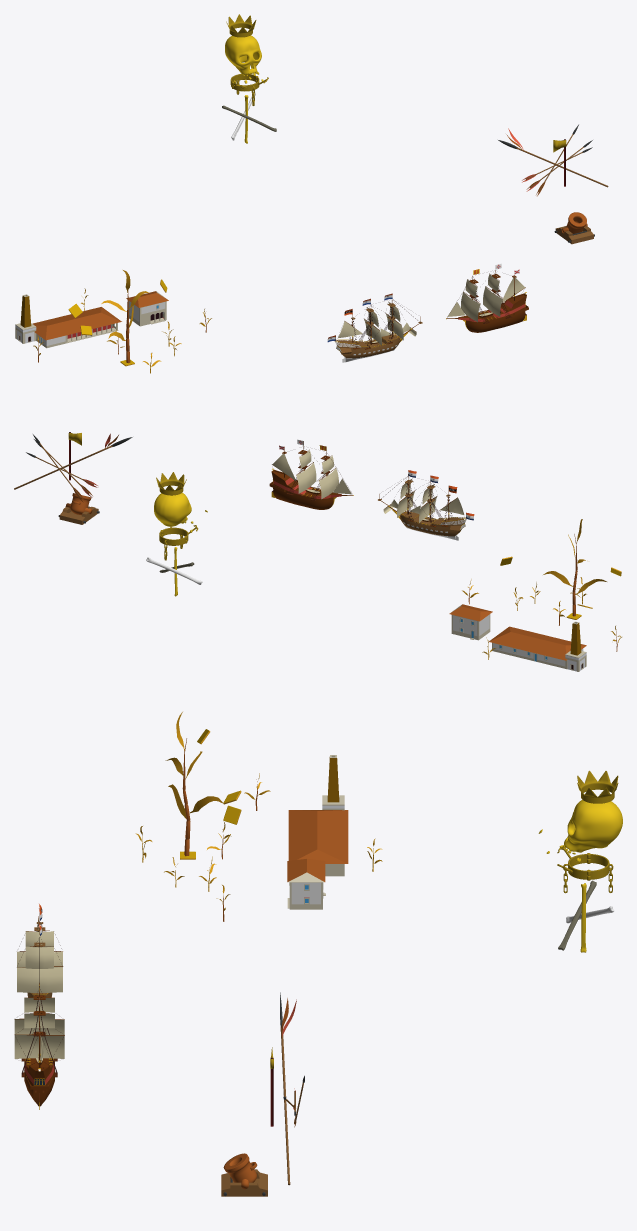
The picture shows the model from 3 angles, top to bottom: view 1: azimuth 30°, elevation 25°; view 2: azimuth 150°, elevation 25°; view 3: azimuth 270°, elevation 25°; orthographic projection. The views are drawn at different scales.
Visible parts, largest first — view 1: Cube.022, sce-nau-pt, Cube.228, Cube.024, sce-ship-wic, Cube.023; view 2: Cube.022, sce-nau-pt, Cube.024, Cube.228, sce-ship-wic, Cube.023, Cube.048, Cube, Plane.004, Cube.028; view 3: Cube.022, Cube.228, Cube.024, Plane.004, Plane.115, sce-nau-pt, Cube.048, Cube, Cube.023, Cube.028.
Part boxes in pixels (x1,y1,x2,y2): Cube.022: (32, 307, 121, 348); sce-nau-pt: (458, 293, 526, 332); Cube.228: (225, 35, 261, 74); Cube.024: (126, 291, 168, 326); sce-ship-wic: (335, 334, 400, 358); Cube.023: (15, 294, 36, 343); Cube.022: (489, 626, 586, 668); sce-nau-pt: (271, 469, 341, 509); Cube.024: (449, 604, 492, 640); Cube.228: (154, 490, 191, 526); sce-ship-wic: (399, 511, 465, 536); Cube.023: (565, 621, 586, 671); Cube.048: (156, 472, 186, 495); Cube: (59, 503, 98, 524); Plane.004: (296, 463, 316, 493); Cube.028: (159, 527, 188, 545); Cube.022: (288, 810, 348, 876); Cube.228: (564, 800, 622, 852); Cube.024: (287, 859, 325, 909); Plane.004: (14, 1035, 64, 1058); Plane.115: (17, 967, 62, 992); sce-nau-pt: (24, 1058, 54, 1106); Cube.048: (577, 770, 618, 803); Cube: (221, 1169, 267, 1196); Cube.023: (322, 755, 344, 810); Cube.028: (568, 854, 609, 879).
Size of the model in its own units: 14.67 by 4.35 by 9.08.
Materials: 48 (5 with a texture image).
